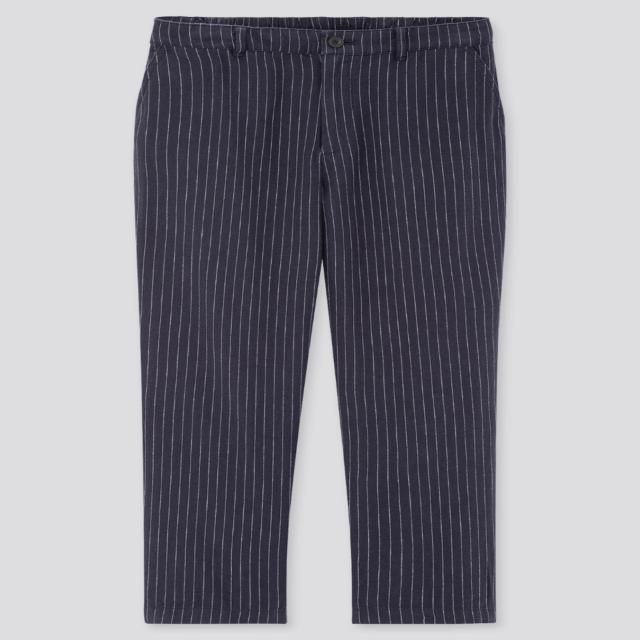long-pants: (133, 16, 509, 629)
